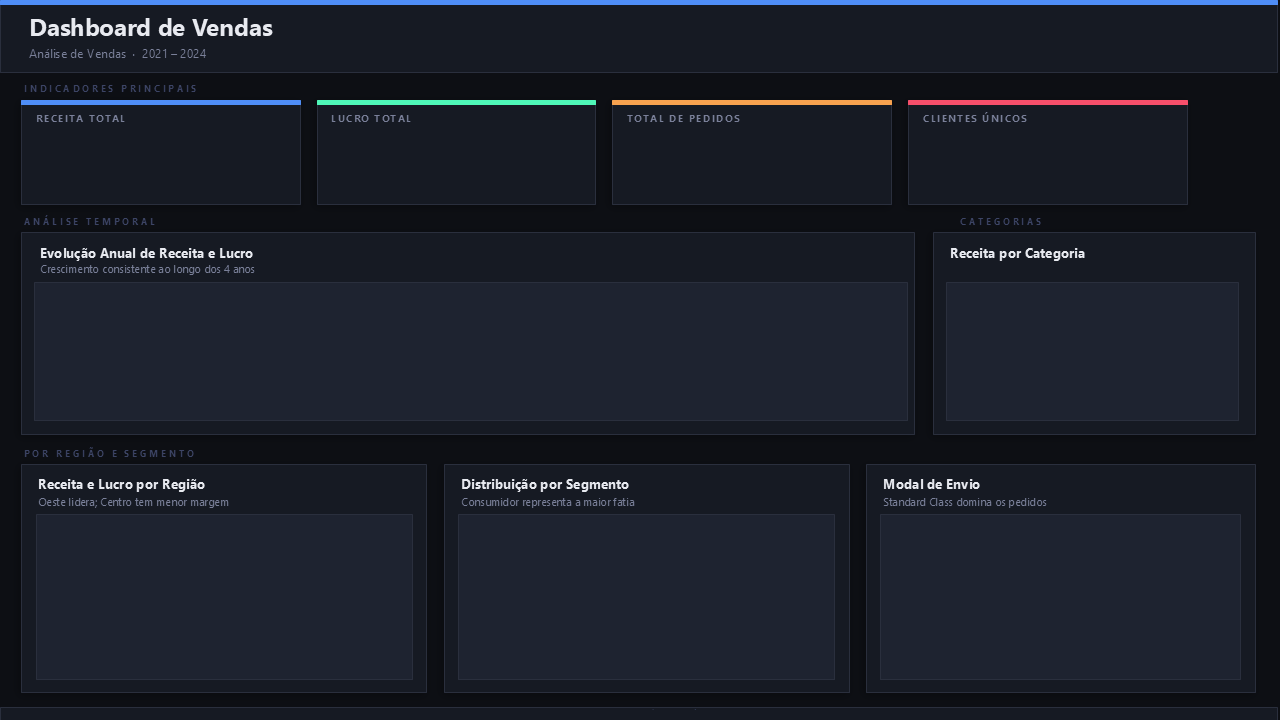

The dashboard page shown, as its layout file describes it:
{"tool":"powerbi","page":{"name":"Página 1","canvas":[1280,720],"ordinal":0},"visuals":[{"type":"cardVisual","fields":{"Data":["dados_finais.Total Vendas"]},"box":[0,90.7,263.5,145.4],"z":0},{"type":"cardVisual","fields":{"Data":["dados_finais.Lucro Total"]},"box":[301,115.2,239,96.5],"z":1000},{"type":"cardVisual","fields":{"Data":["dados_finais.Pedidos Formatado"]},"box":[597.6,115.2,247.7,96.5],"z":2000},{"type":"cardVisual","fields":{"Data":["dados_finais.Clientes Unicos"]},"box":[895.7,115.2,204.5,96.5],"z":3000},{"type":"donutChart","fields":{"Y":["dados_finais.Total Vendas"],"Series":["dados_finais.categoria"]},"box":[933.1,257.8,318.2,169.9],"z":4000},{"type":"clusteredColumnChart","fields":{"Category":["dados_finais.regiao"],"Y":["dados_finais.Total Vendas","dados_finais.Lucro Total"]},"box":[20.2,506.9,400.3,178.6],"z":5000},{"type":"clusteredBarChart","fields":{"Category":["dados_finais.segmento"],"Y":["dados_finais.Total Vendas"]},"box":[446.4,506.9,398.9,178.6],"z":6000},{"type":"columnChart","fields":{"Category":["dados_finais.tipo_entrega"],"Y":["CountNonNull(dados_finais.id_pedido)"]},"box":[865.4,506.9,385.9,178.6],"z":7000},{"type":"lineClusteredColumnComboChart","fields":{"Y":["Sum(dados_finais.vendas)"],"Category":["Calendario.Ano"],"Y2":["Sum(dados_finais.lucro)"]},"box":[20.2,275,891.4,152.6],"z":8000},{"type":"cardVisual","fields":{"Data":["dados_finais.Receita YoY %"]},"box":[167,90.7,149.8,69.1],"z":9000},{"type":"cardVisual","fields":{"Data":["dados_finais.% Lucro YoY"]},"box":[466.6,90.7,144,69.1],"z":10000},{"type":"cardVisual","fields":{"Data":["dados_finais.% Pedidos YoY"]},"box":[745.9,90.7,299.5,69.1],"z":11000},{"type":"cardVisual","fields":{"Data":["dados_finais.Ticket Médio"]},"box":[1058.4,90.7,152.6,69.1],"z":12000},{"type":"slicer","fields":{"Values":["Calendario.Ano"]},"box":[714.2,8.6,565.9,43.2],"z":13000}]}

Visuals, with their boxes in screenshot pixels (x1, y1, x2, y2), scaled from the page's 1280x720 canvas onto the 1280x720 screenshot:
cardVisual - dados_finais.Total Vendas: bbox(0, 91, 264, 236)
cardVisual - dados_finais.Lucro Total: bbox(301, 115, 540, 212)
cardVisual - dados_finais.Pedidos Formatado: bbox(598, 115, 845, 212)
cardVisual - dados_finais.Clientes Unicos: bbox(896, 115, 1100, 212)
donutChart - dados_finais.Total Vendas x dados_finais.categoria: bbox(933, 258, 1251, 428)
clusteredColumnChart - dados_finais.regiao x dados_finais.Total Vendas: bbox(20, 507, 420, 686)
clusteredBarChart - dados_finais.segmento x dados_finais.Total Vendas: bbox(446, 507, 845, 686)
columnChart - dados_finais.tipo_entrega x CountNonNull(dados_finais.id_pedido): bbox(865, 507, 1251, 686)
lineClusteredColumnComboChart - Sum(dados_finais.vendas) x Calendario.Ano: bbox(20, 275, 912, 428)
cardVisual - dados_finais.Receita YoY %: bbox(167, 91, 317, 160)
cardVisual - dados_finais.% Lucro YoY: bbox(467, 91, 611, 160)
cardVisual - dados_finais.% Pedidos YoY: bbox(746, 91, 1045, 160)
cardVisual - dados_finais.Ticket Médio: bbox(1058, 91, 1211, 160)
slicer - Calendario.Ano: bbox(714, 9, 1279, 52)
